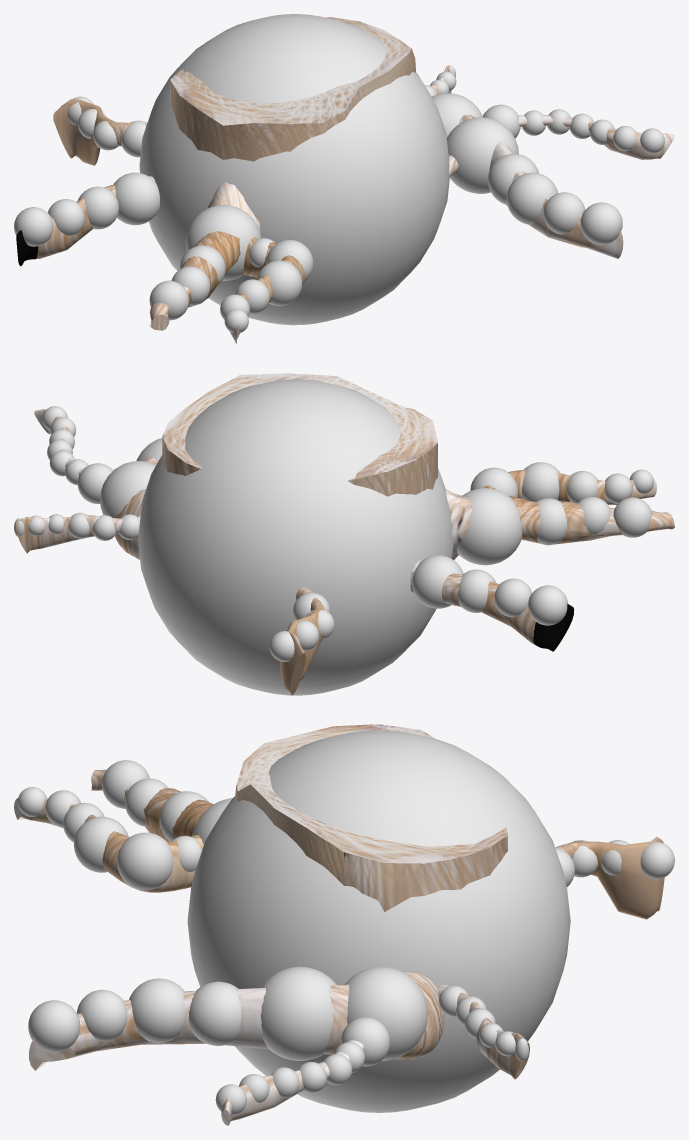
The model's file is tree1.FBX.
3 views of the same model, one above another, from view 1: azimuth 30°, elevation 25°; view 2: azimuth 150°, elevation 25°; view 3: azimuth 270°, elevation 25° (orthographic). The views are drawn at different scales.
Visible parts, largest first — view 1: BoundingSphere (×9), Cylinder016, BoundingSphere009, BoundingSphere011, BoundingSphere013, BoundingSphere010, BoundingSphere012, BoundingSphere001, BoundingSphere003, BoundingSphere008, BoundingSphere002, BoundingSphere004 (+3 smaller); view 2: BoundingSphere (×10), Cylinder016, BoundingSphere008, BoundingSphere003, BoundingSphere001, BoundingSphere002, BoundingSphere014, BoundingSphere007, BoundingSphere004, BoundingSphere006, BoundingSphere022; view 3: BoundingSphere (×11), Cylinder016, BoundingSphere009, BoundingSphere008, BoundingSphere011, BoundingSphere010, BoundingSphere013, BoundingSphere012, BoundingSphere014, BoundingSphere007, BoundingSphere017, BoundingSphere016 (+3 smaller).
Boxes of the visible parts, <box> form: BoundingSphere (×9): <box>113,14,449,325</box>; Cylinder016: <box>16,17,674,343</box>; BoundingSphere009: <box>447,117,518,193</box>; BoundingSphere011: <box>506,172,557,224</box>; BoundingSphere013: <box>580,202,622,244</box>; BoundingSphere010: <box>488,153,539,204</box>; BoundingSphere012: <box>543,192,585,234</box>; BoundingSphere001: <box>78,186,118,229</box>; BoundingSphere003: <box>14,207,53,246</box>; BoundingSphere008: <box>432,93,482,137</box>; BoundingSphere002: <box>48,199,84,235</box>; BoundingSphere004: <box>121,120,146,157</box>; BoundingSphere (×10): <box>138,379,651,695</box>; Cylinder016: <box>16,373,674,695</box>; BoundingSphere008: <box>100,461,155,517</box>; BoundingSphere003: <box>528,585,567,625</box>; BoundingSphere001: <box>458,569,496,612</box>; BoundingSphere002: <box>494,578,531,617</box>; BoundingSphere014: <box>77,463,113,503</box>; BoundingSphere007: <box>269,631,300,661</box>; BoundingSphere004: <box>293,592,330,620</box>; BoundingSphere006: <box>297,620,319,650</box>; BoundingSphere022: <box>92,515,115,540</box>; BoundingSphere (×11): <box>17,730,570,1112</box>; Cylinder016: <box>14,724,664,1125</box>; BoundingSphere009: <box>260,966,336,1060</box>; BoundingSphere008: <box>344,966,428,1060</box>; BoundingSphere011: <box>129,978,185,1042</box>; BoundingSphere010: <box>188,981,241,1045</box>; BoundingSphere013: <box>28,1000,80,1052</box>; BoundingSphere012: <box>76,989,127,1041</box>; BoundingSphere014: <box>341,1017,390,1066</box>; BoundingSphere007: <box>640,841,674,879</box>; BoundingSphere017: <box>298,1062,326,1092</box>; BoundingSphere016: <box>323,1054,352,1085</box>.
Bounding box in the file's own units: 390 × 177 × 306.
